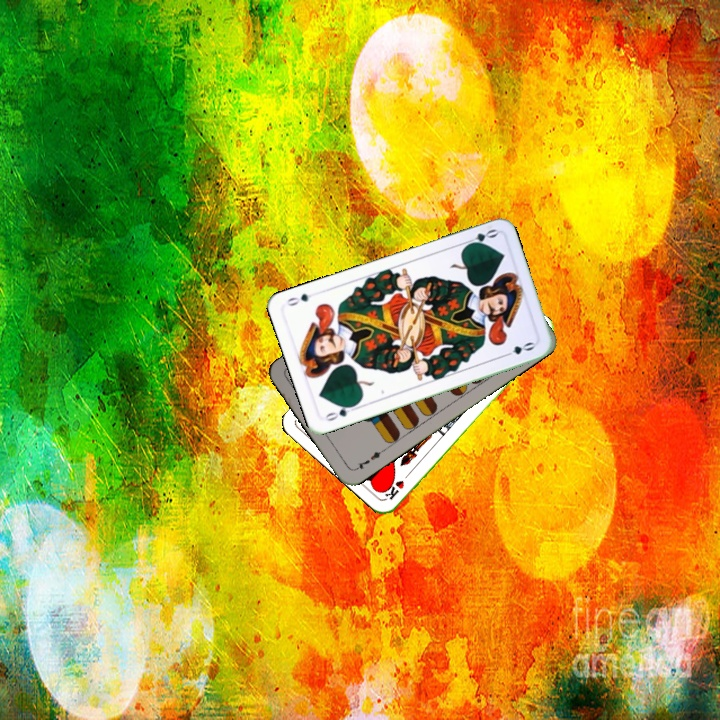E7: (351, 445, 387, 473)
GO: (460, 225, 500, 250), (321, 400, 360, 424)
HK: (381, 468, 414, 503)
